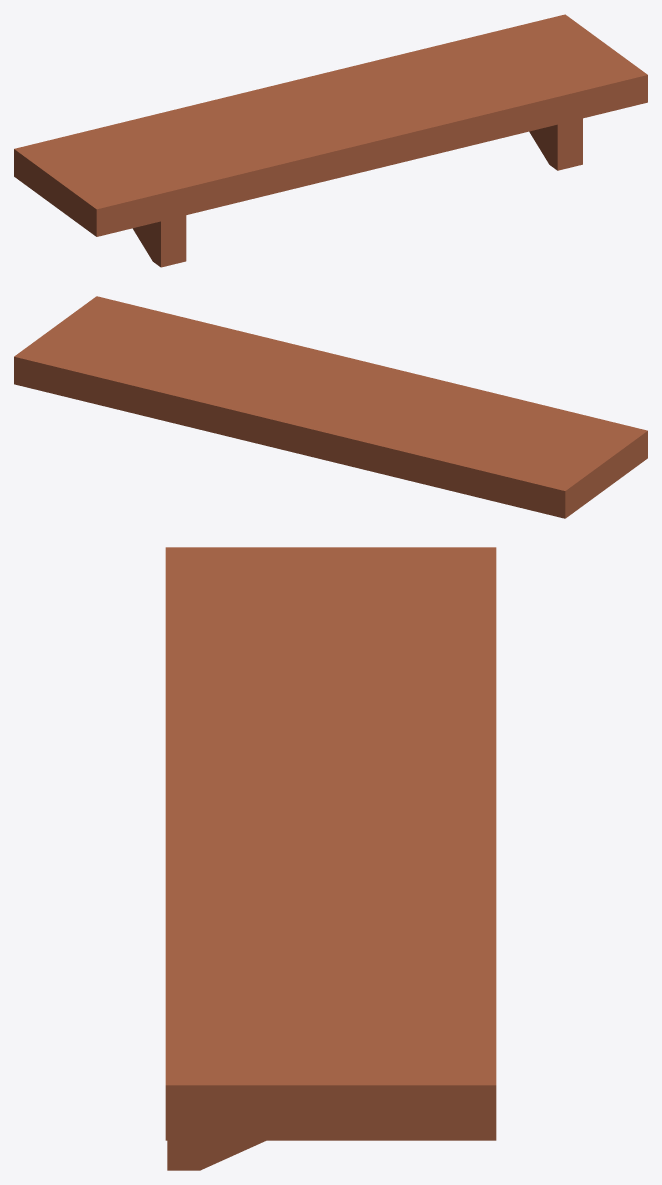
File: estante-vazia.fbx
3 renders of one model, top to bottom at view 1: azimuth 30°, elevation 25°; view 2: azimuth 150°, elevation 25°; view 3: azimuth 270°, elevation 25°, orthographic. The views are drawn at different scales.
Parts seen in each view (by area): view 1: Cube.021; view 2: Cube.021; view 3: Cube.021.
Part boxes in pixels (x1=…): Cube.021: x1=14, y1=14, x2=647, y2=267; Cube.021: x1=14, y1=296, x2=647, y2=518; Cube.021: x1=165, y1=547, x2=496, y2=1170.
Bounding box in the file's own units: 3.02 × 0.3889 × 0.7847.
